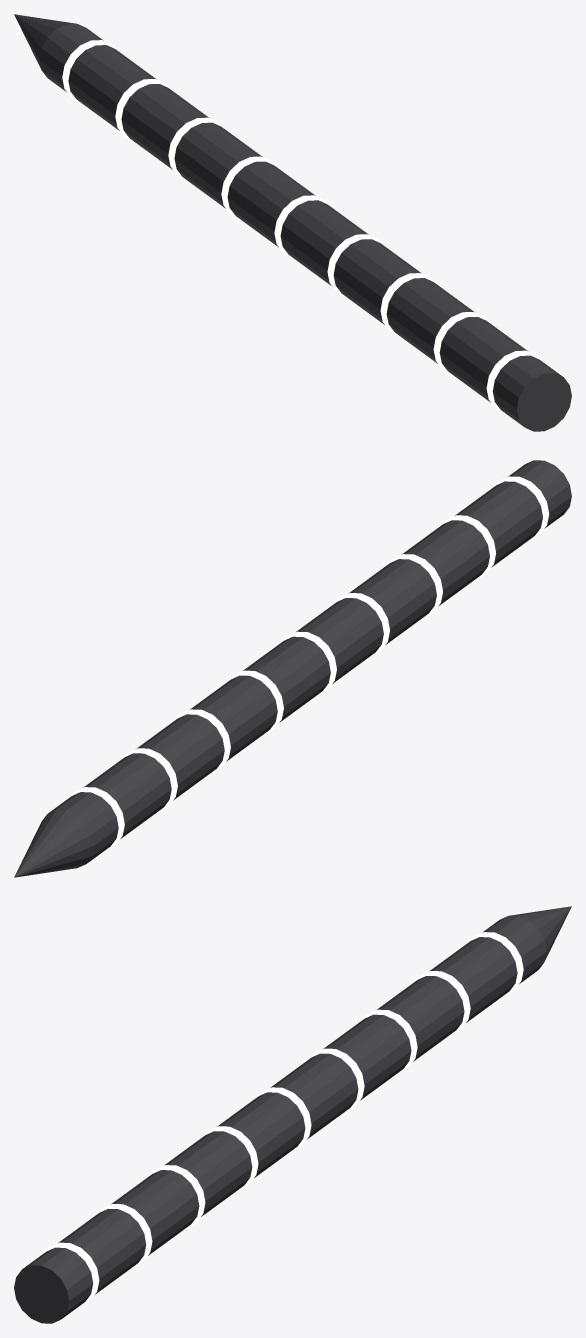
The model's file is OS_KineticRod.fbx.
3 renders of one model, top to bottom at view 1: azimuth 30°, elevation 25°; view 2: azimuth 150°, elevation 25°; view 3: azimuth 330°, elevation 25°, orthographic.
Parts seen in each view (by area): view 1: OS_KineticRod; view 2: OS_KineticRod; view 3: OS_KineticRod.
Part boxes in pixels (box(x1,y1,x2,y2)): OS_KineticRod: box(14, 14, 571, 431); OS_KineticRod: box(14, 460, 571, 877); OS_KineticRod: box(14, 906, 571, 1323).
Bounding box in the file's own units: 1.26 × 20 × 1.26.
